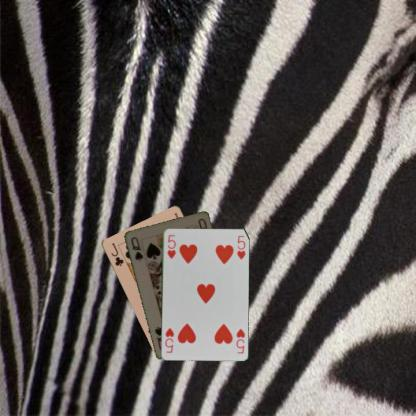5h: (234, 326, 246, 355), (164, 232, 176, 260)
Jc: (108, 240, 125, 267)
Qs: (128, 234, 144, 262)
